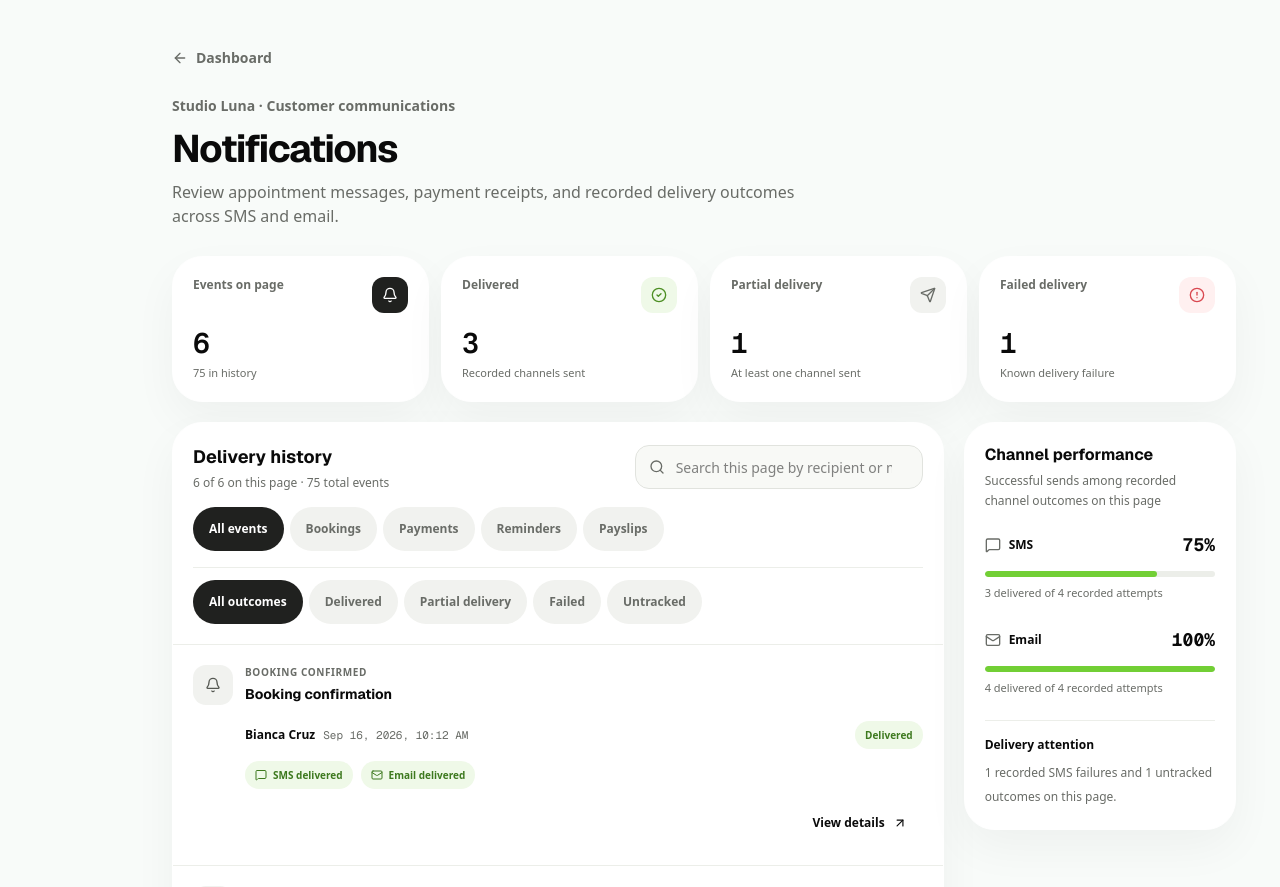
it: Notifications preview › keeps a terminal outbox failure failed even if stored channel flags conflict
Click the button "Failed". click: (567, 602)
box: [533,580,601,624]
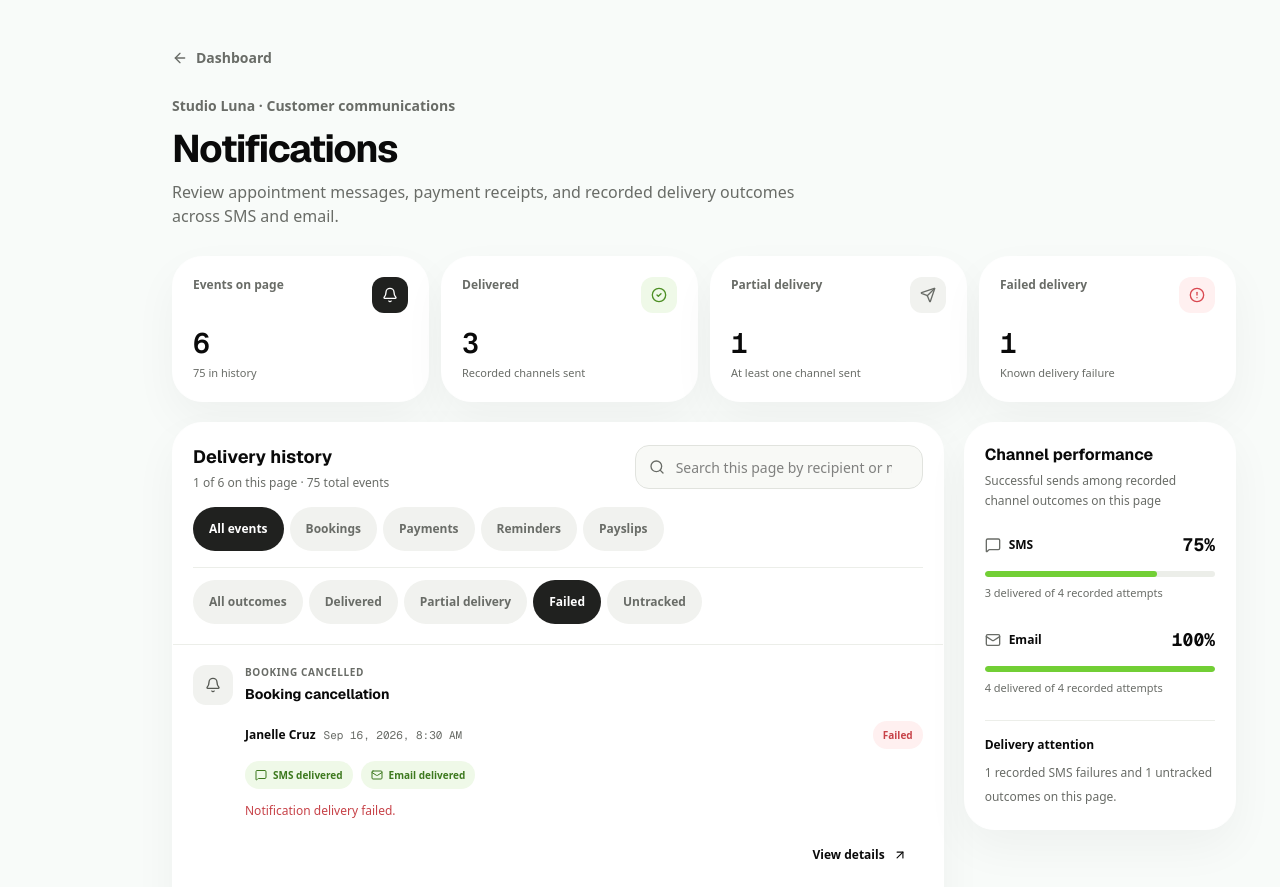
Expected: the text "Janelle Cruz" is shown, [245,726,316,743]
Result: the message shows "1 of 6 on this page" at [193,475,389,491]
